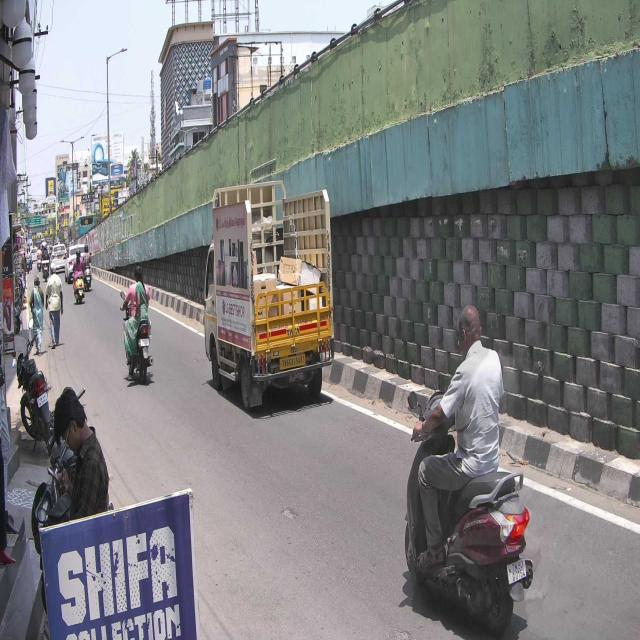single_rider: (402, 301, 536, 636)
